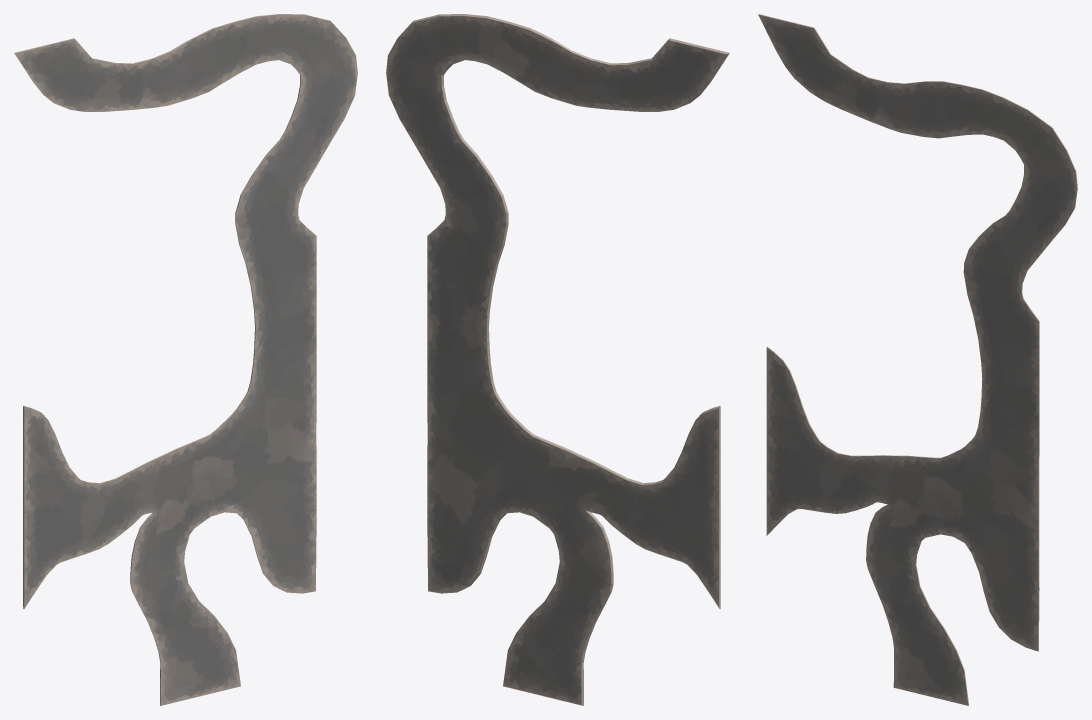
Rendered from ZONE1PATH1Ufbx.fbx.
3 renders of one model, left to right at view 1: azimuth 30°, elevation 25°; view 2: azimuth 150°, elevation 25°; view 3: azimuth 330°, elevation 25°, orthographic. The views are drawn at different scales.
Parts seen in each view (by area): view 1: Plane; view 2: Plane; view 3: Plane.
Boxes of the visible parts, bbox=[...] form: Plane: bbox=[14, 14, 357, 705]; Plane: bbox=[386, 14, 729, 705]; Plane: bbox=[758, 14, 1077, 705].
Size of the model in its own units: 1931 by 3700 by 12.81.
1 material, 1 textured.
